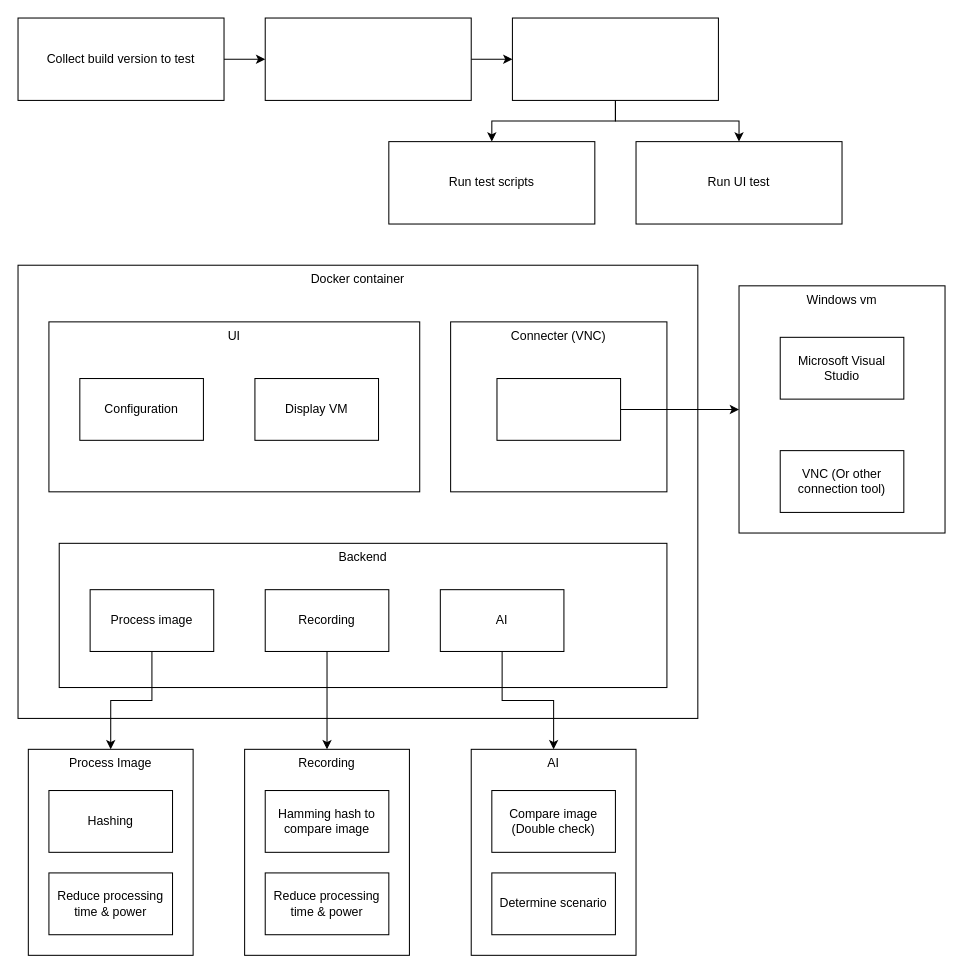
Some shapes in this 963 by 973 pixel diagram are drawn without their labels. Each missing label, with the centre of its shape:
"Build VM with different OS" belongs at pixel 367 58.
"Connect to VM using VNC/ other tech" belongs at pixel 558 408.
"Setup Microsoft VS" belongs at pixel 614 58.
